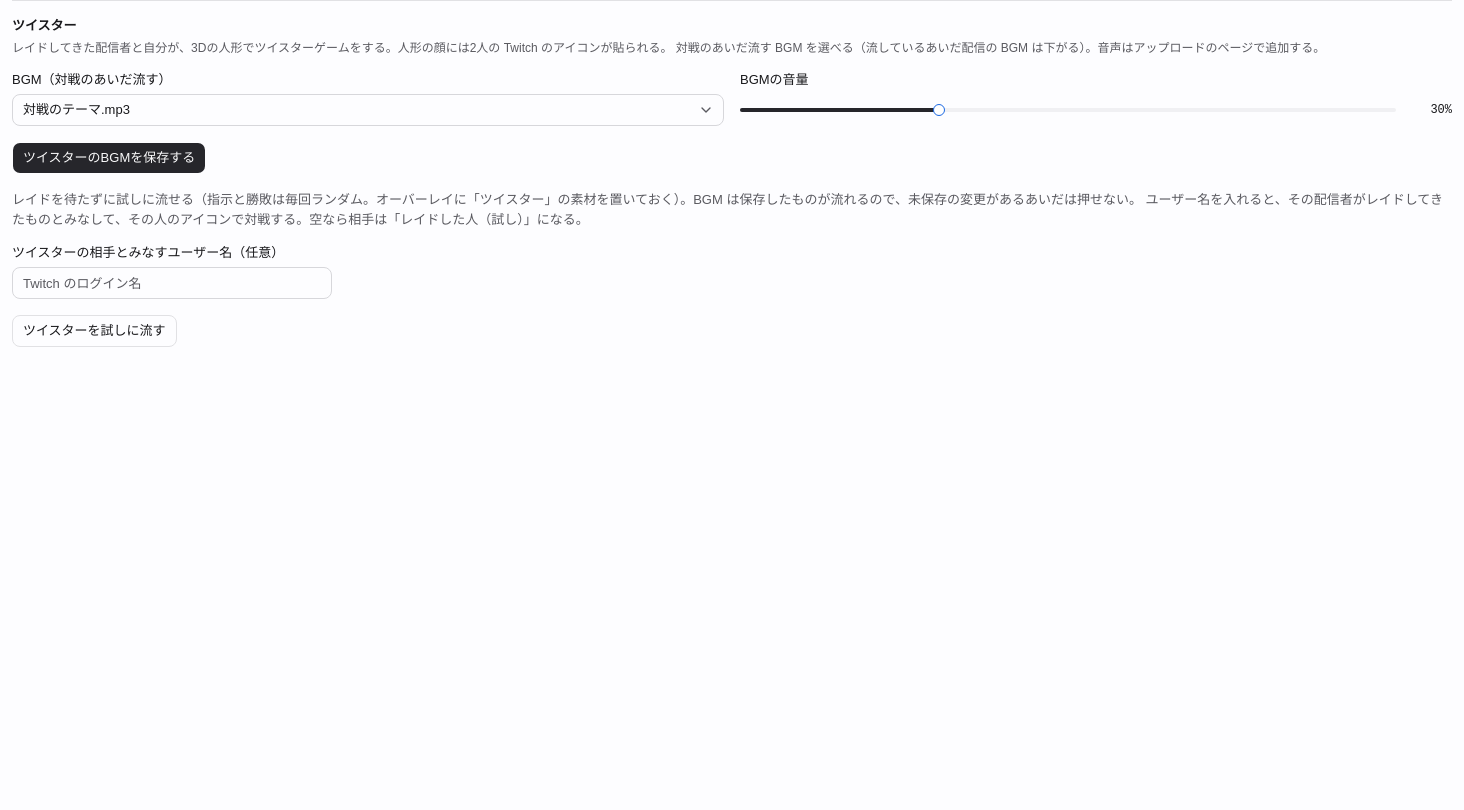
it: TwisterCard › BGM を選び直して保存すると、選んだ BGM と音量をWorkerへ送り、保存したことを知らせる
The width and height of the screenshot is (1464, 810).
Select "ジャジャーン.mp3" in the dropdown labelled "BGM（対戦のあいだ流す）": (368, 110) [12,94,724,126]
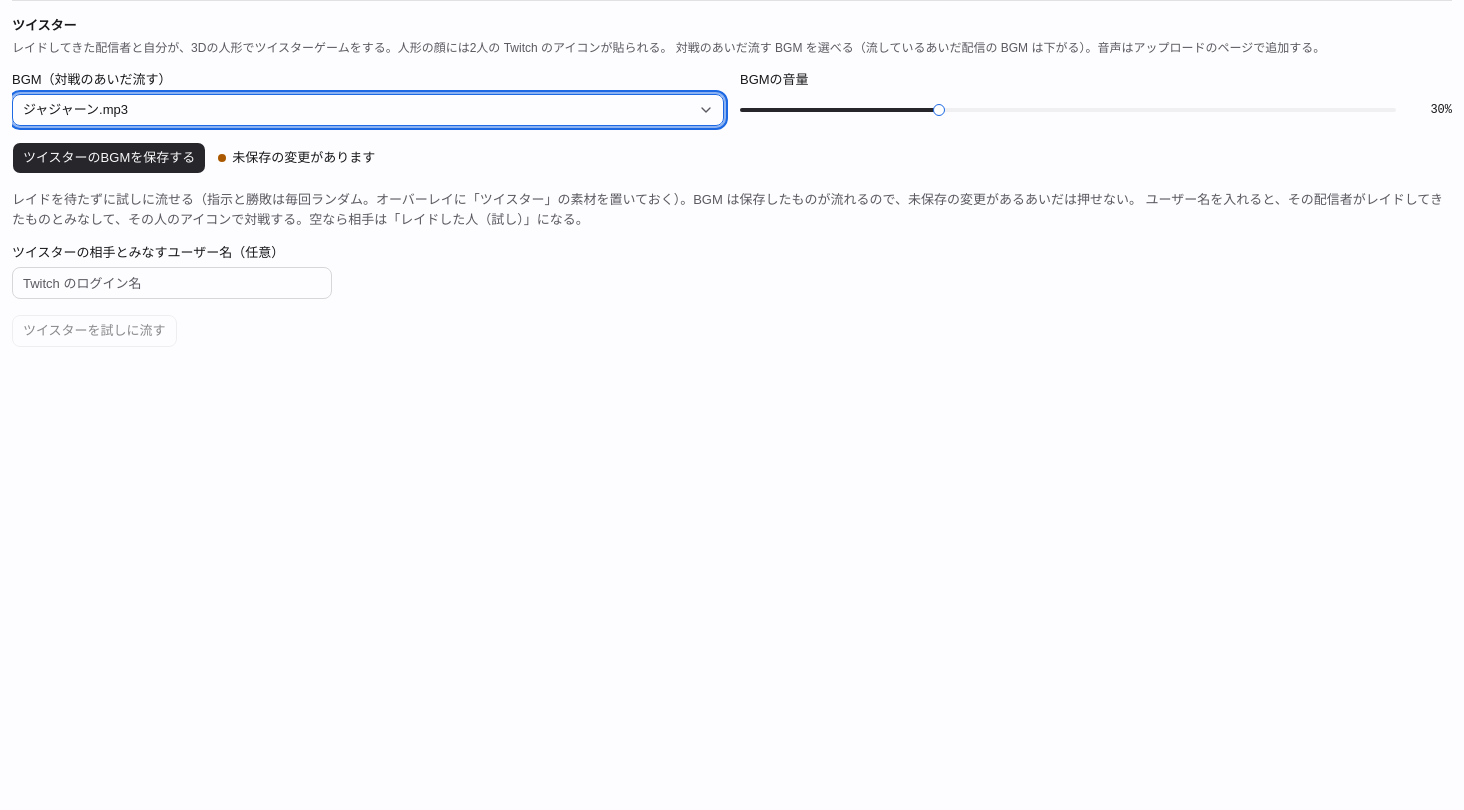
Now the text "未保存の変更があります" is shown, box [218,148,375,168]
Click the button "ツイスターのBGMを保存する": (109, 158) [12,142,206,174]
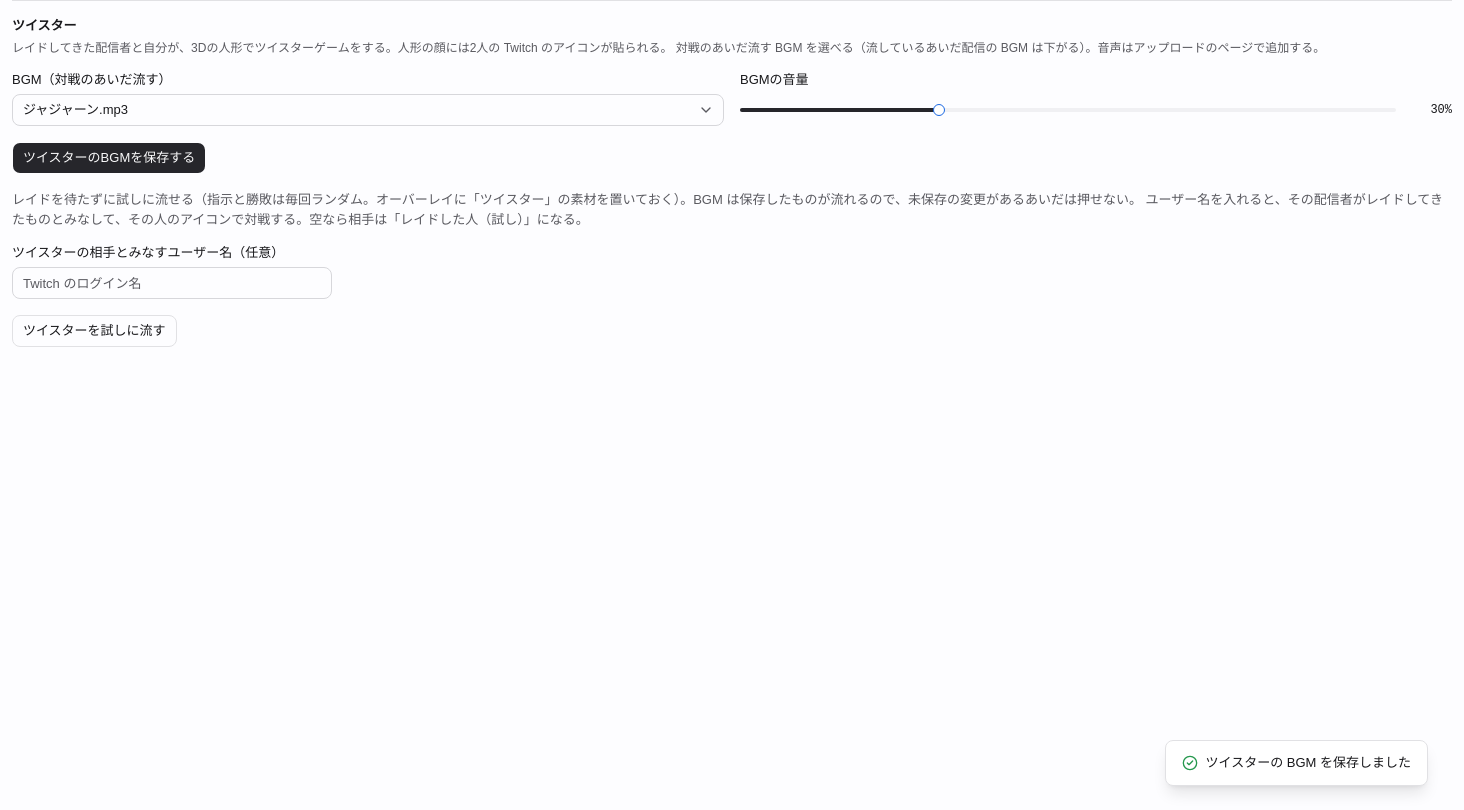
Now the text "ツイスターの BGM を保存しました" is shown, box [1164,740,1428,786]
Now the text "未保存の変更があります" is gone
